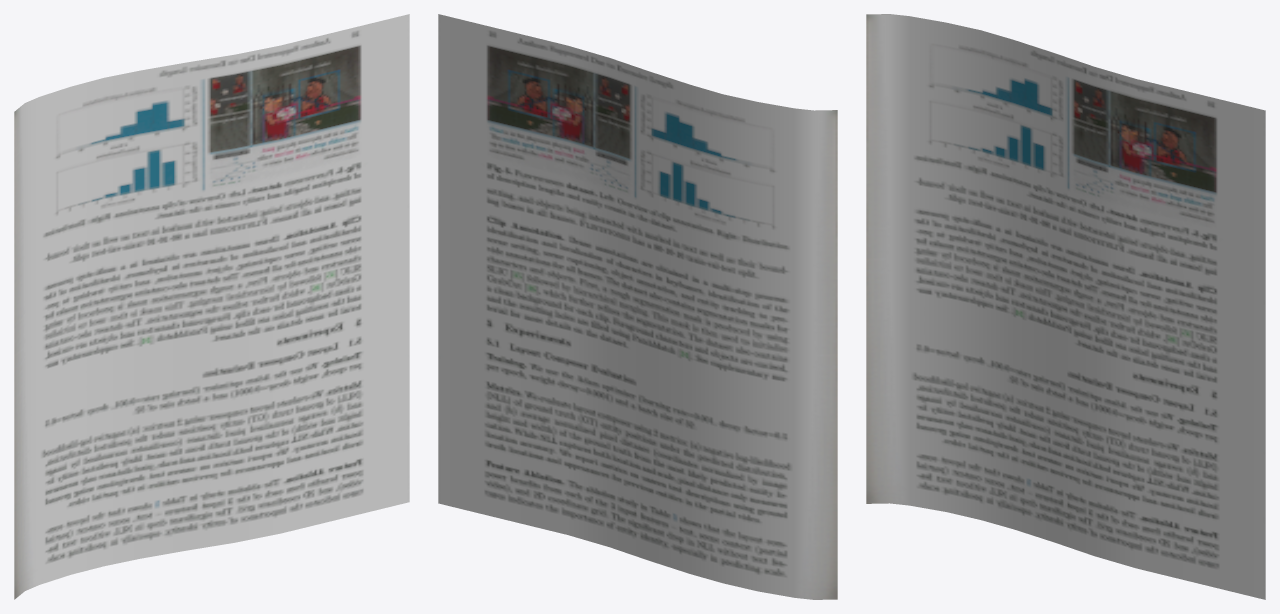
The model's file is MeshBookFront_12_1_GeomSubset_2.obj.
3 renders of one model, left to right at view 1: azimuth 30°, elevation 25°; view 2: azimuth 150°, elevation 25°; view 3: azimuth 330°, elevation 25°, orthographic.
Visible parts, largest first — view 1: MeshBookFront_12_1_GeomSubset_2; view 2: MeshBookFront_12_1_GeomSubset_2; view 3: MeshBookFront_12_1_GeomSubset_2.
Part boxes in pixels (bbox=[...]): MeshBookFront_12_1_GeomSubset_2: bbox=[14, 14, 409, 599]; MeshBookFront_12_1_GeomSubset_2: bbox=[438, 14, 837, 599]; MeshBookFront_12_1_GeomSubset_2: bbox=[866, 14, 1265, 599].
Size of the model in its own units: 0.2548 by 0.2995 by 0.0138.
